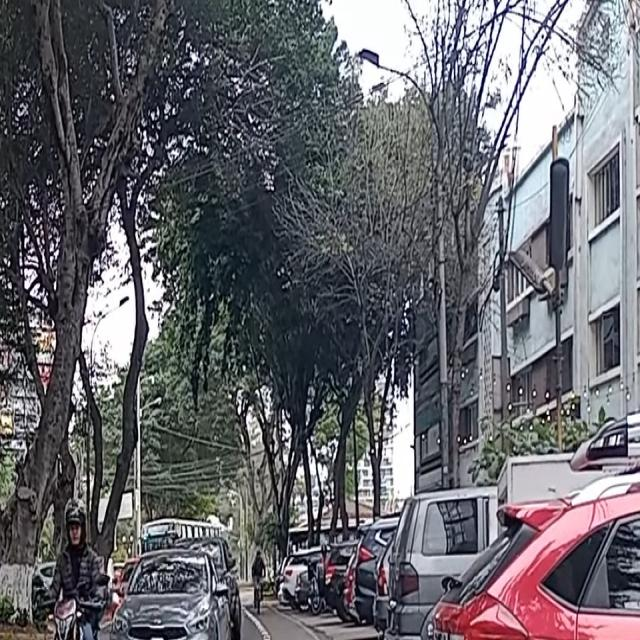bicycle: (250, 568, 266, 612)
car: (110, 554, 232, 640), (0, 562, 9, 640)
motorcycle: (46, 583, 100, 640)
